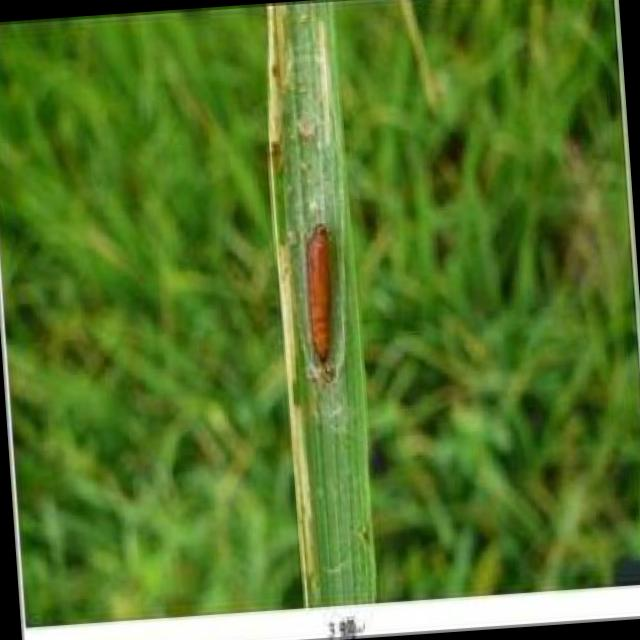leaf-folder: (274, 162, 371, 416)
